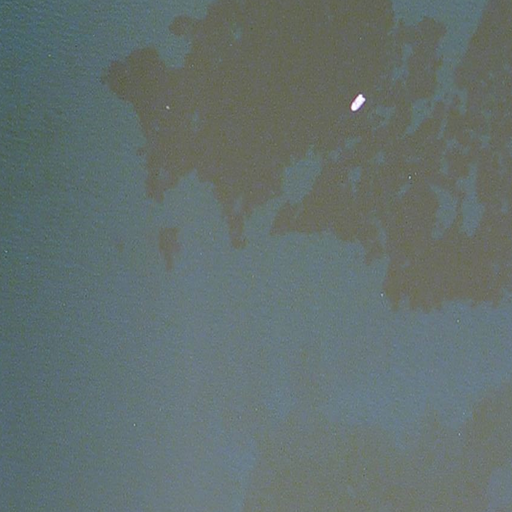ship: (350, 94, 366, 113)
